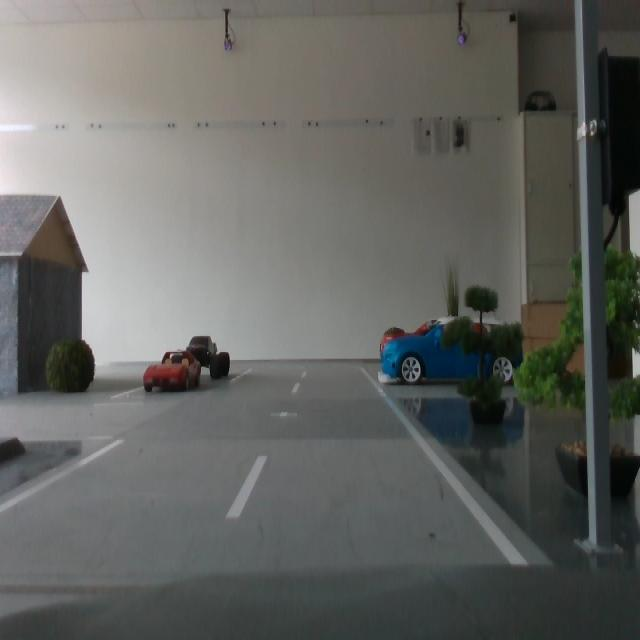car: (379, 316, 522, 386), (380, 317, 519, 382), (142, 346, 205, 398), (177, 333, 233, 383)
potted plant: (514, 236, 640, 504), (439, 281, 521, 432), (45, 334, 97, 397), (440, 258, 463, 358), (382, 326, 409, 365)
traffic light: (594, 45, 640, 217)
